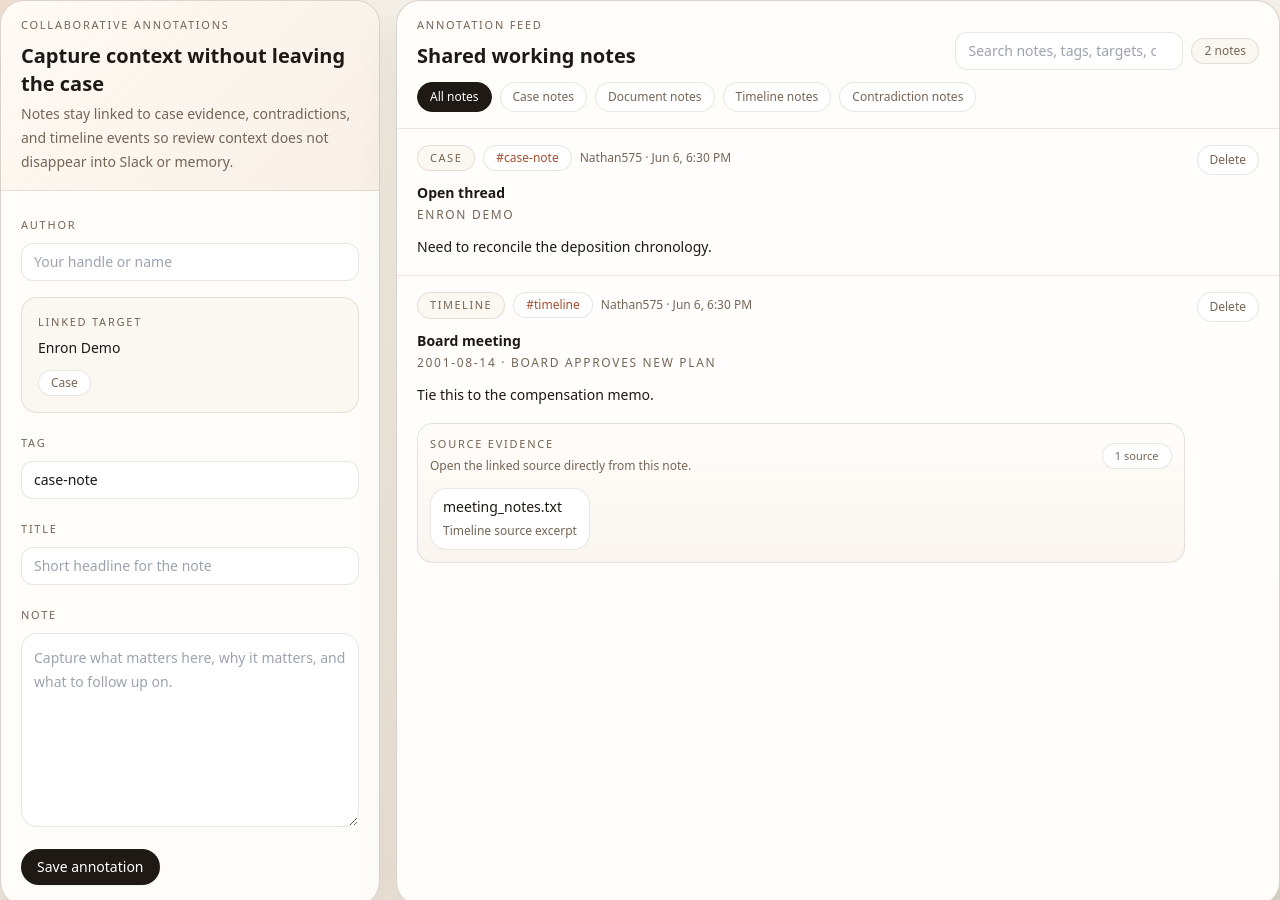
it: AnnotationsBoard › renders existing notes and filters by target type
Expected: the text "Open thread" is shown, [417, 183, 505, 202]
Expected: the text "Board meeting" is shown, [417, 330, 521, 350]
Click the button "Timeline notes" at x=777, y=96, box [723, 82, 831, 112]
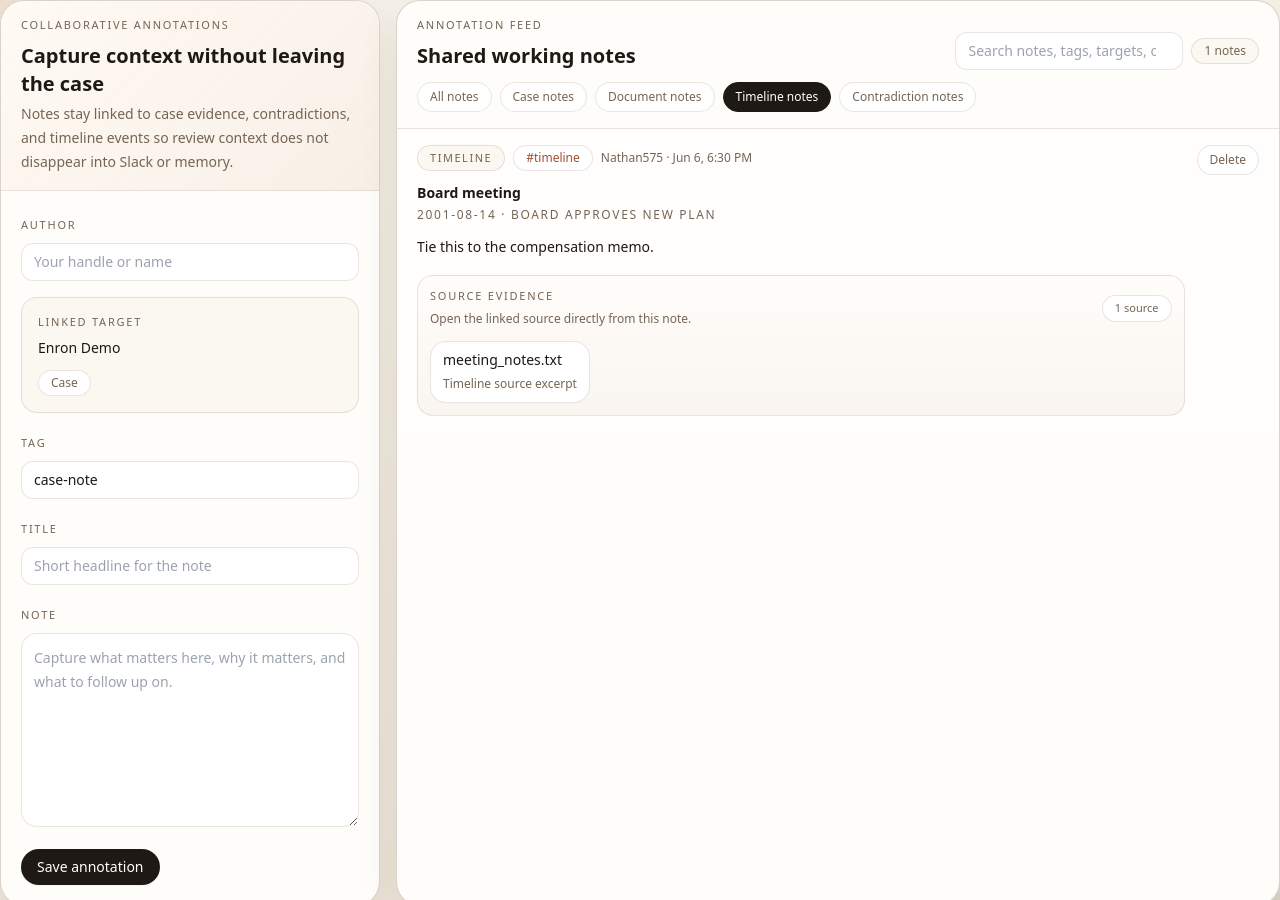
Expected: the text "Board meeting" is shown, [417, 183, 521, 202]
Expected: the text "Open thread" is gone
